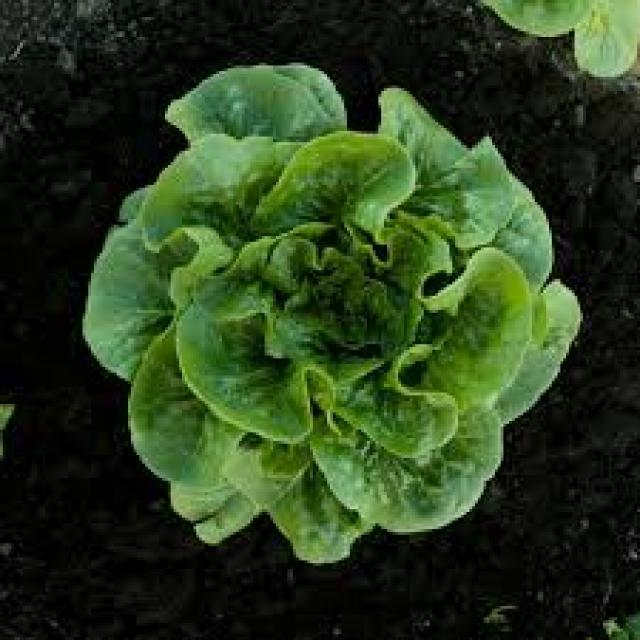Lettuce: (82, 61, 584, 566)
